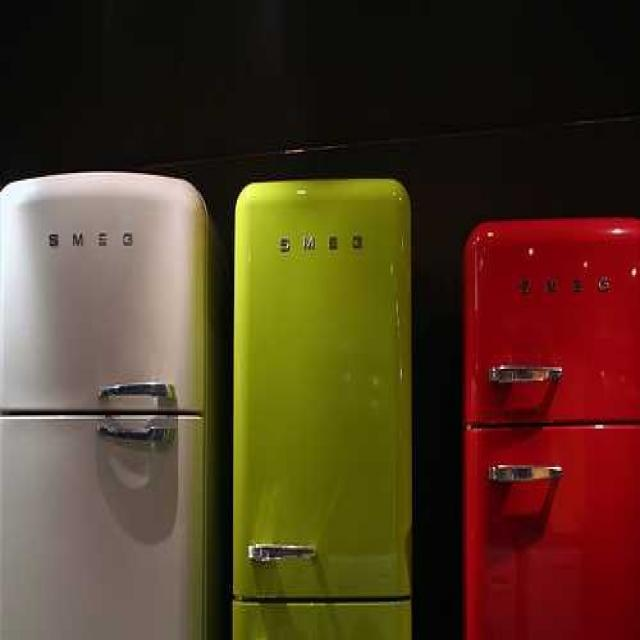refrigerator: (7, 170, 220, 640), (233, 178, 412, 638), (453, 213, 640, 640)
